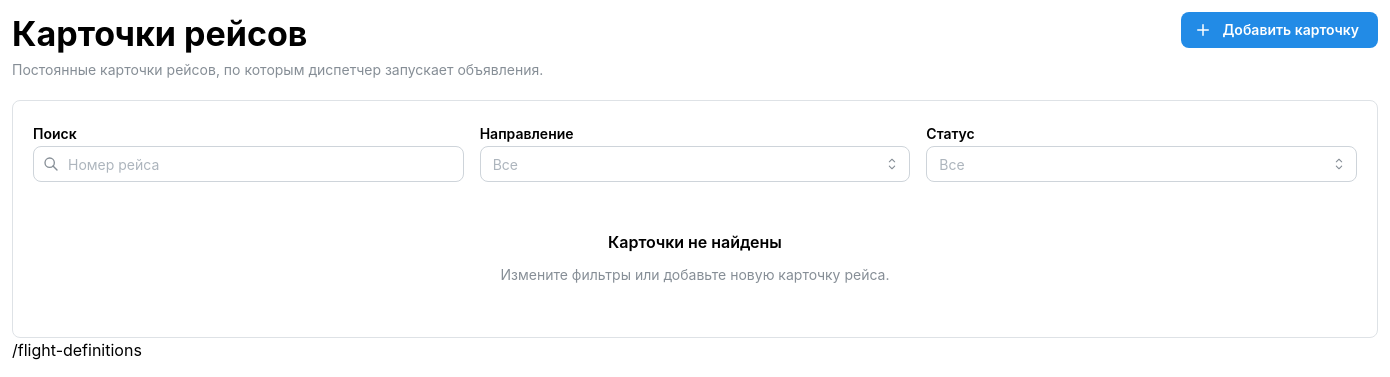
Test: FlightDefinitionsPage › navigates to the create page
Expected: the text "Карточки не найдены" is shown, x1=608 y1=230 x2=782 y2=255
Click the button "Добавить карточку" at [1280, 30], box x1=1181 y1=12 x2=1378 y2=48
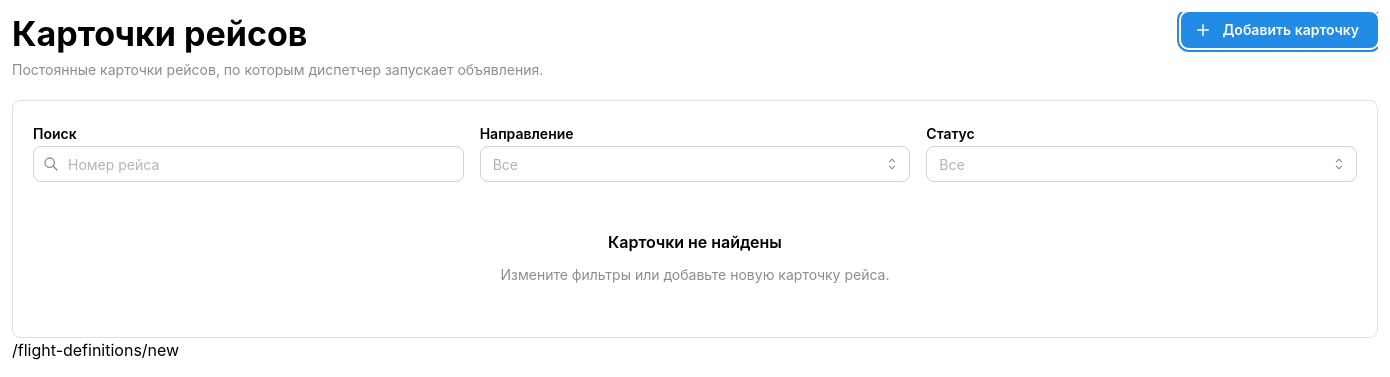
Now the text with test id "location" reads "/flight-definitions/new", box x1=12 y1=340 x2=179 y2=360
